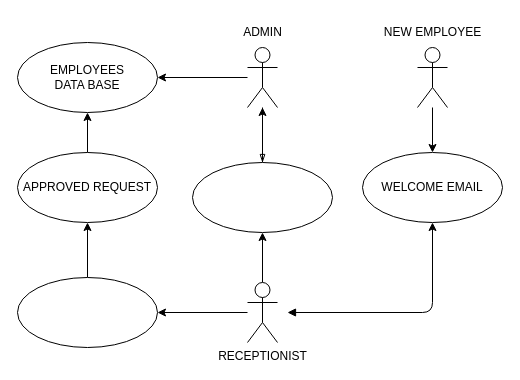
The diagram is 520 pixels wide and 380 high, and some of its shapes have lost their labels. The shapes that lost their labels are listed below. From the top down, each one's box as (x1, y1, x2, y2) in pixels, then its label:
(192, 162, 332, 232): ERROR TICKET
(16, 276, 158, 348): CREATE AN EMPLOYEE ENTITY
